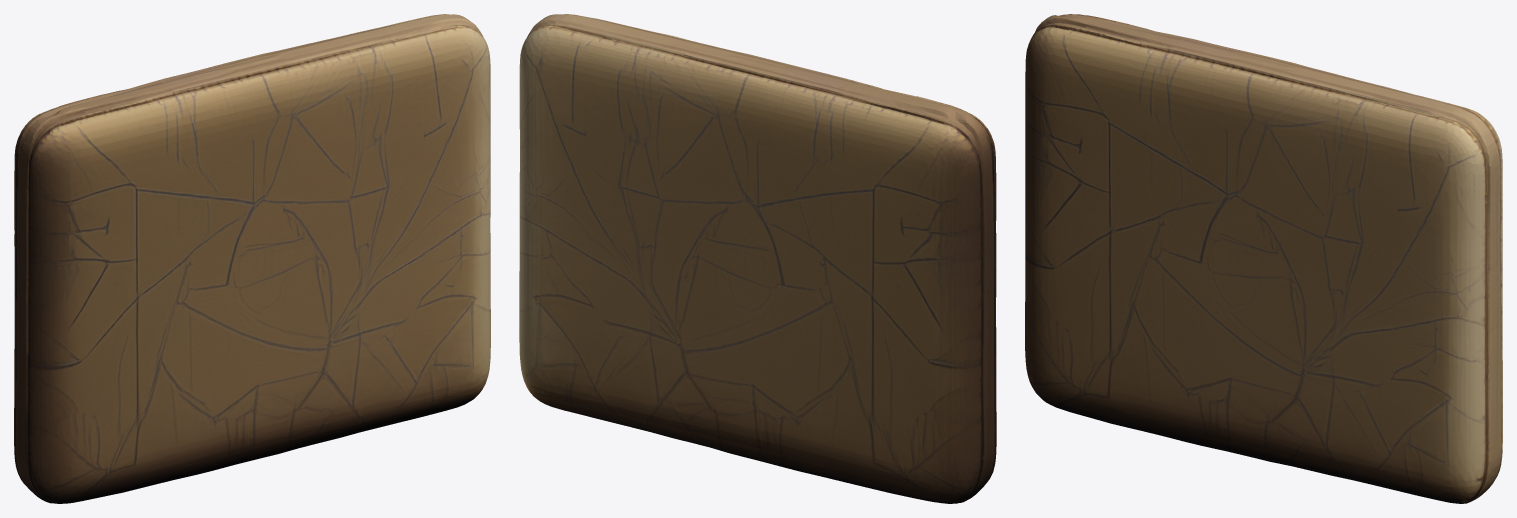
Rendered from cork-wallet-3d.jpeg.glb.
3 renders of one model, left to right at view 1: azimuth 30°, elevation 25°; view 2: azimuth 150°, elevation 25°; view 3: azimuth 330°, elevation 25°, orthographic.
Parts seen in each view (by area): view 1: world; view 2: world; view 3: world.
Boxes of the visible parts, <box> form: world: <box>14,14,490,503</box>; world: <box>519,14,996,503</box>; world: <box>1025,14,1502,503</box>.
Bounding box in the file's own units: 1 × 0.8071 × 0.1441.
1 material, 1 textured.
